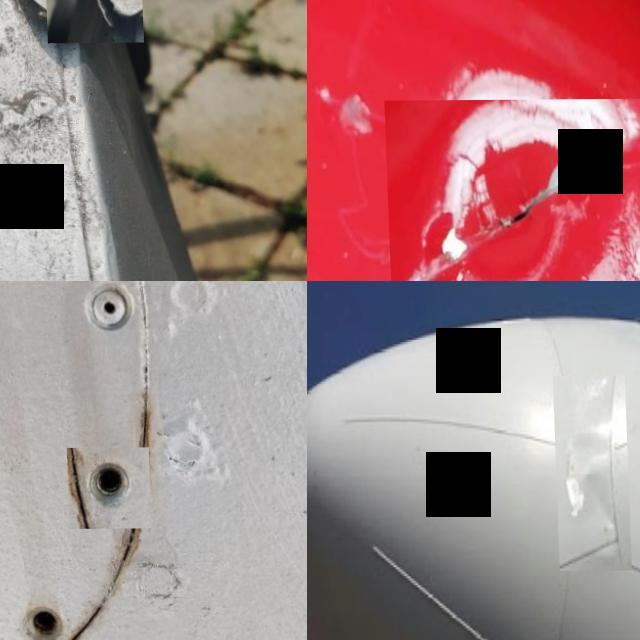Crack: (382, 99, 640, 281), (41, 0, 141, 43)
Dent: (554, 377, 629, 571)
Missing_Fastener: (64, 448, 150, 529), (5, 586, 75, 640)
